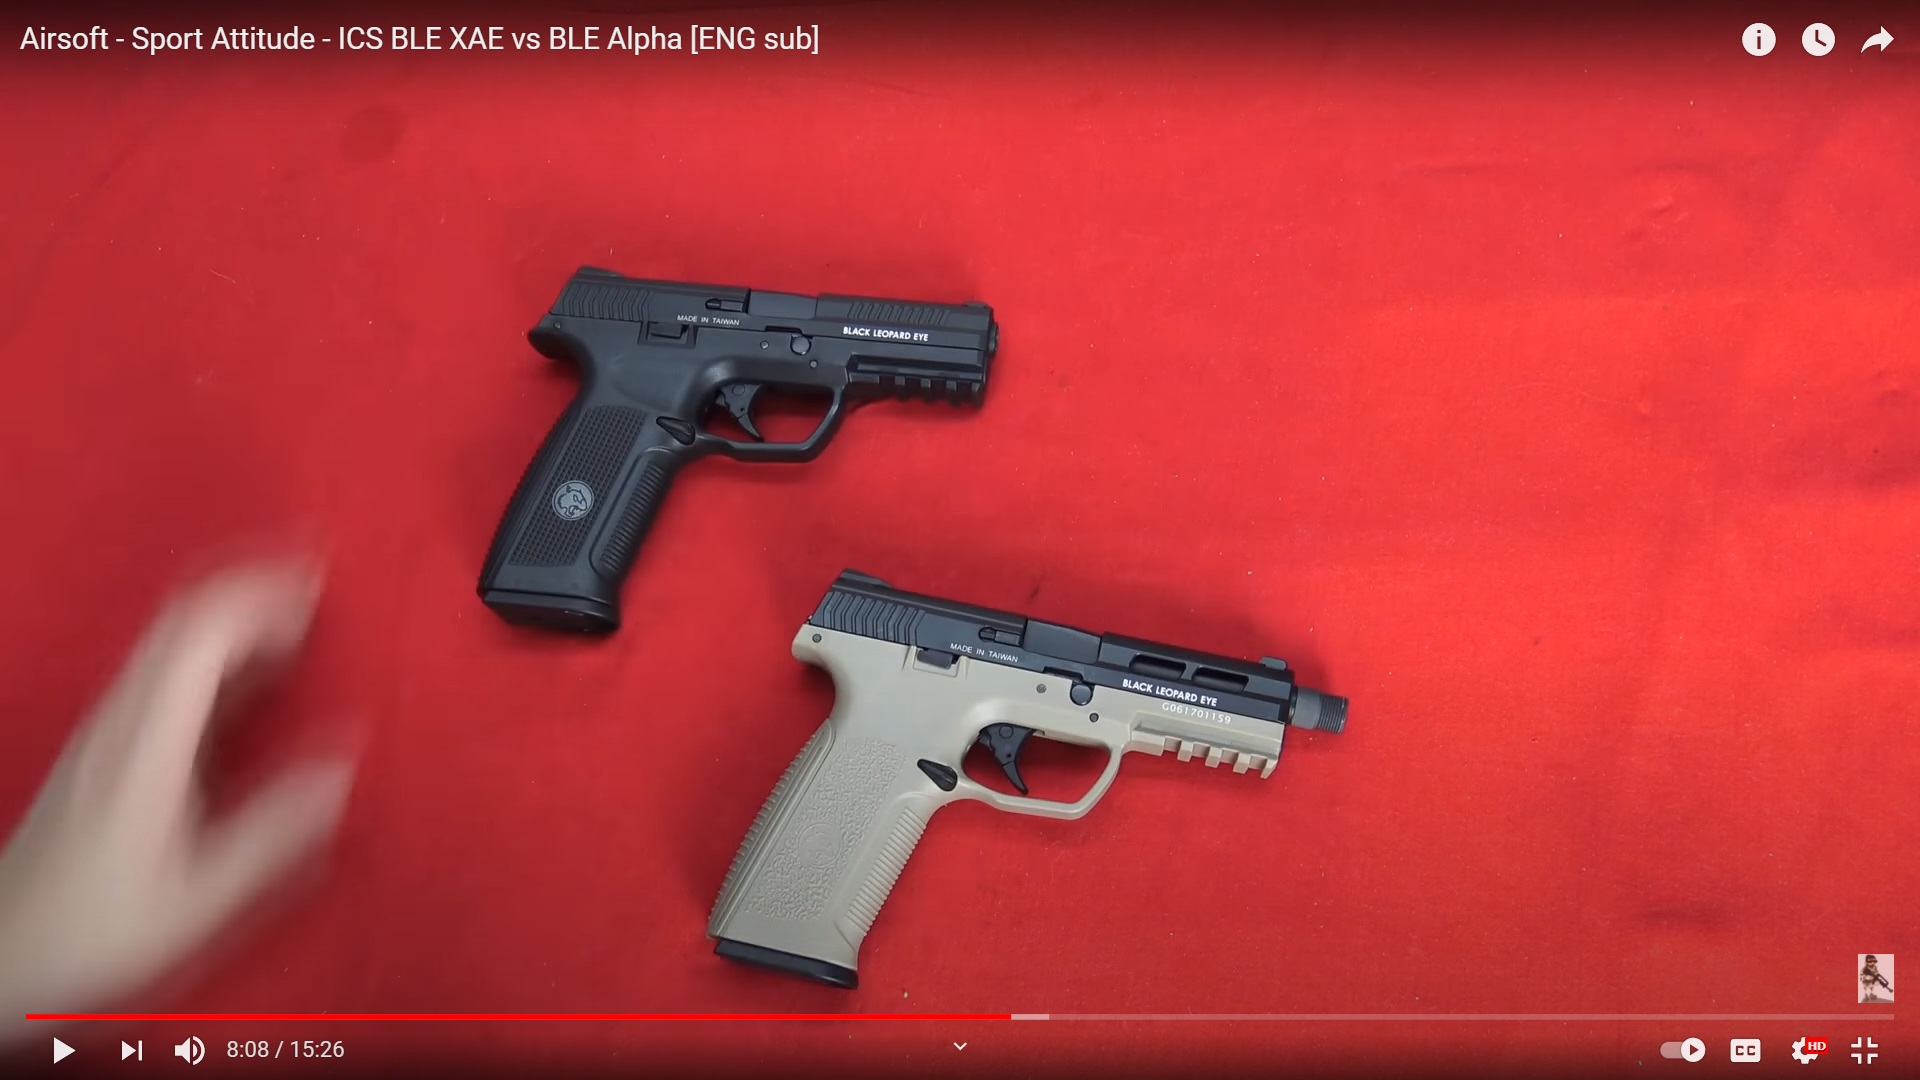asg_ics_ble_xae: (721, 560, 1348, 971)
